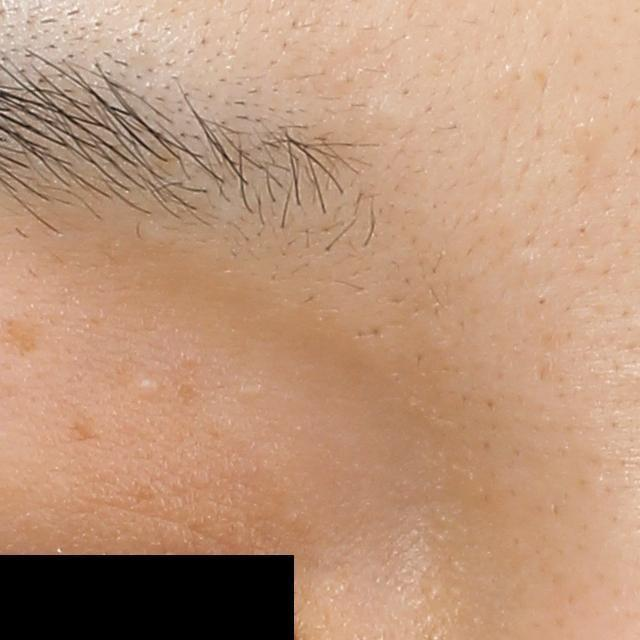comedo: (531, 288, 551, 309)
melasma: (72, 421, 101, 443)
